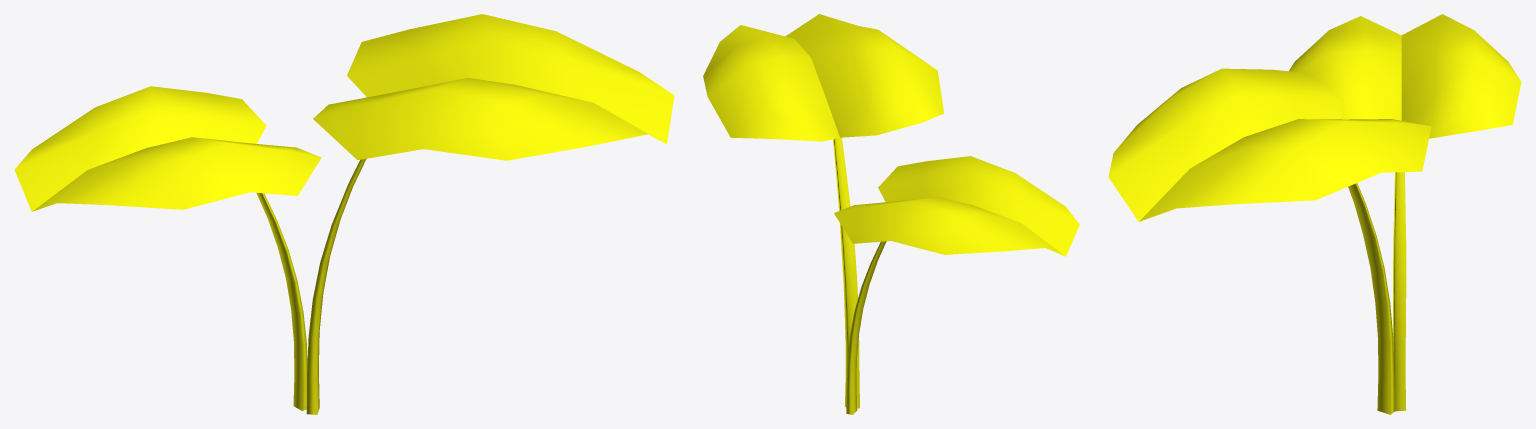
The model's file is Leaf_2.fbx.
3 views of the same model, side by side, from view 1: azimuth 30°, elevation 25°; view 2: azimuth 150°, elevation 25°; view 3: azimuth 270°, elevation 25° (orthographic). The views are drawn at different scales.
Parts seen in each view (by area): view 1: Leaf_2; view 2: Leaf_2; view 3: Leaf_2.
Boxes of the visible parts, x1=… form: Leaf_2: x1=14, y1=14, x2=674, y2=414; Leaf_2: x1=703, y1=14, x2=1079, y2=414; Leaf_2: x1=1108, y1=14, x2=1521, y2=414.
Bounding box in the file's own units: 519 × 357 × 372.
